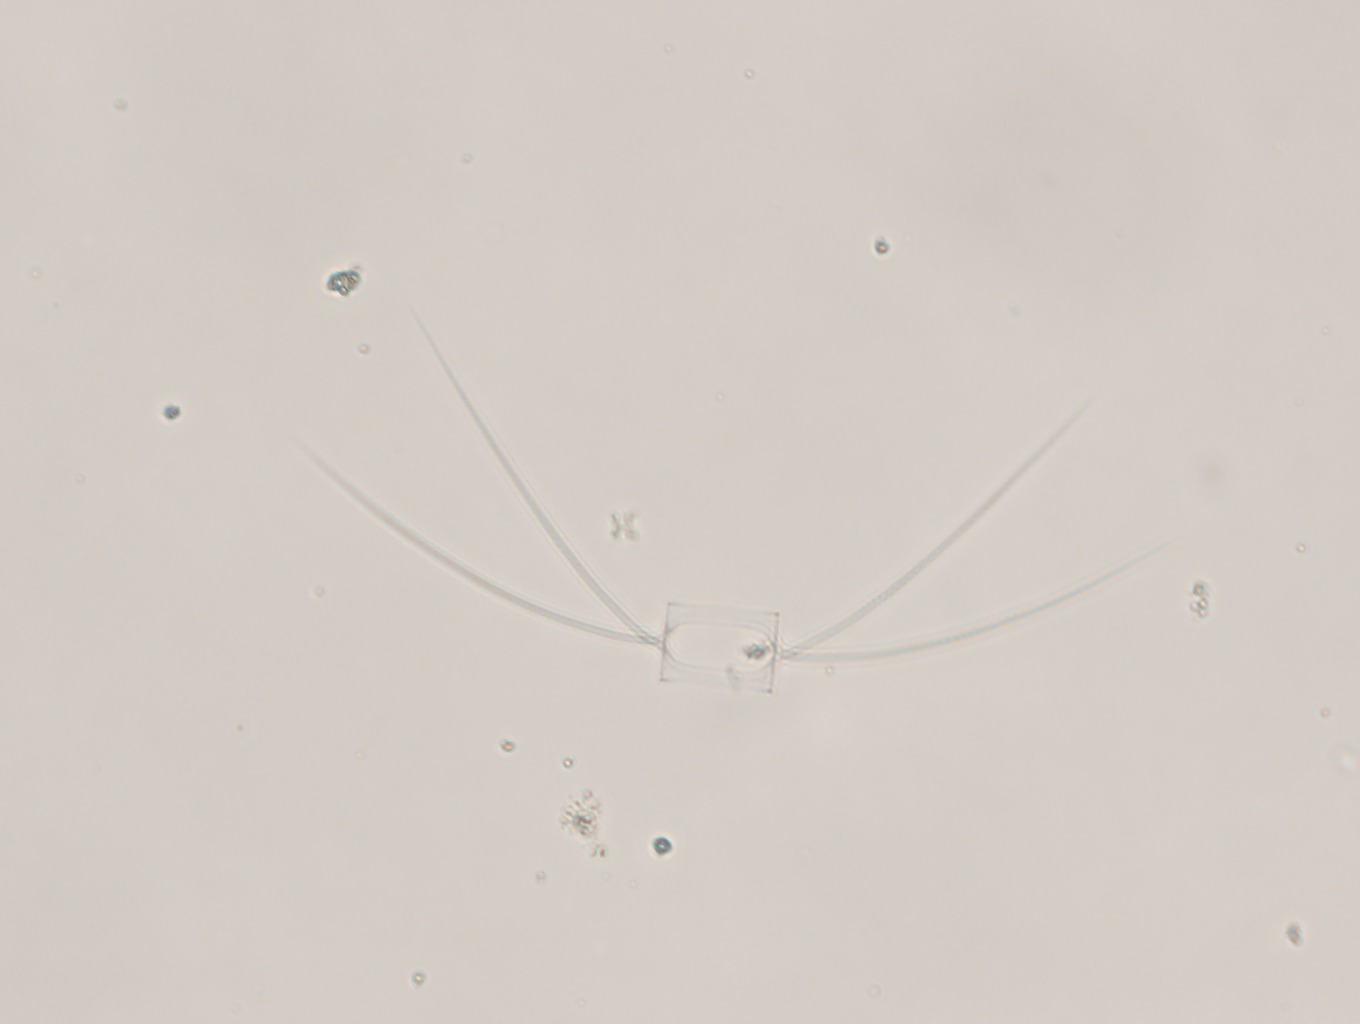chaetoceros: (296, 307, 1163, 695)
